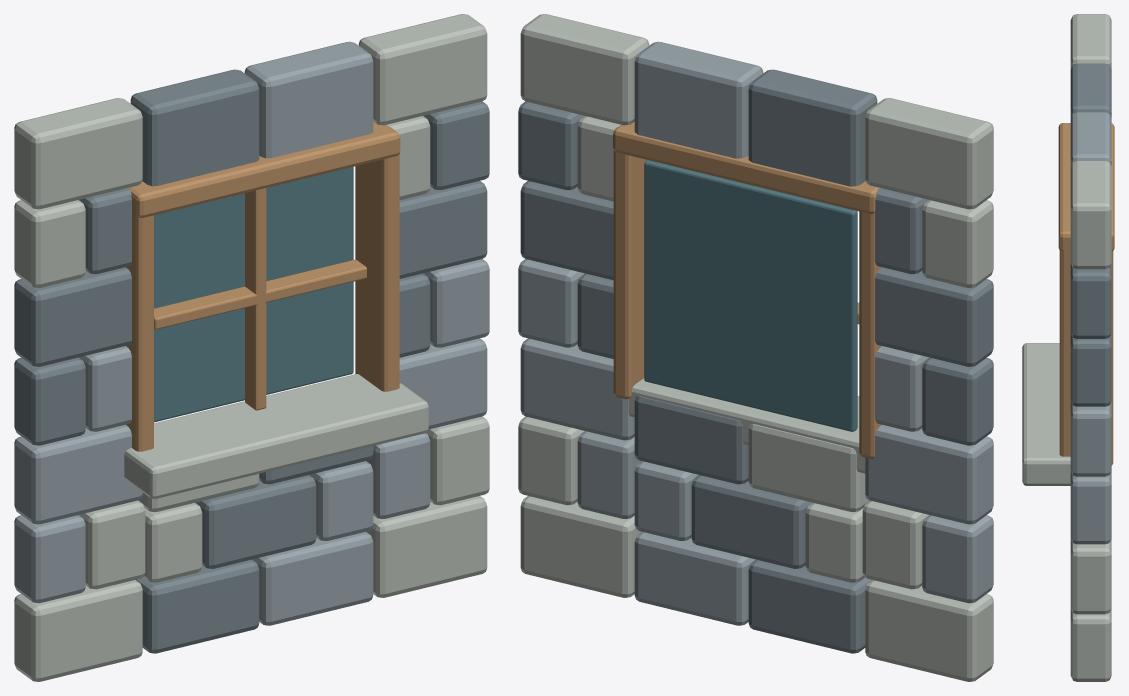
The model's file is wall_window_stone_2m.glb.
3 views of the same model, side by side, from view 1: azimuth 30°, elevation 25°; view 2: azimuth 150°, elevation 25°; view 3: azimuth 270°, elevation 25° (orthographic). The views are drawn at different scales.
Visible parts, largest first — view 1: wall_window_stone_2m; view 2: wall_window_stone_2m; view 3: wall_window_stone_2m.
Boxes of the visible parts, x1,y1,x2,y2 form: wall_window_stone_2m: [14, 14, 489, 681]; wall_window_stone_2m: [518, 14, 993, 681]; wall_window_stone_2m: [1022, 14, 1114, 681].
Size of the model in its own units: 1.81 by 2.07 by 0.362.
